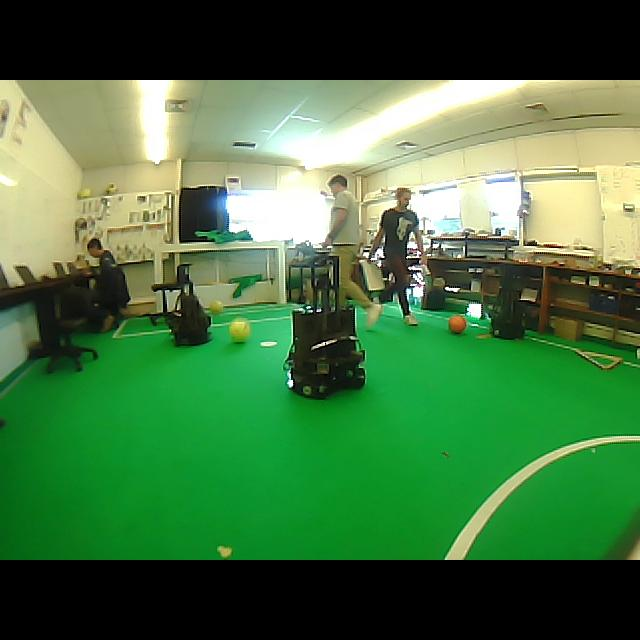ball: (229, 318, 250, 342), (448, 315, 466, 333), (208, 300, 223, 314), (78, 188, 92, 198), (105, 184, 118, 194)
goal: (278, 241, 286, 303)
robot: (284, 255, 365, 398), (168, 264, 210, 345), (492, 272, 524, 339)
